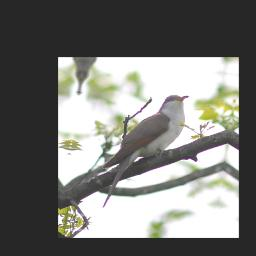Cuckoo: (95, 87, 190, 218)
